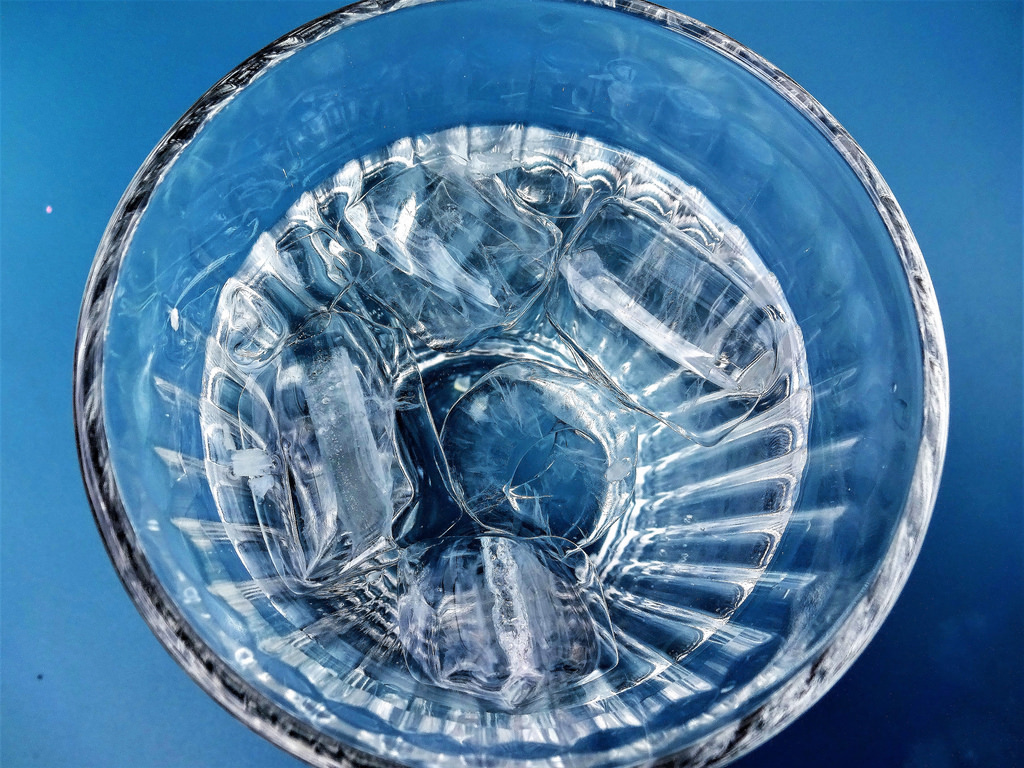glass of water: (106, 40, 899, 725)
